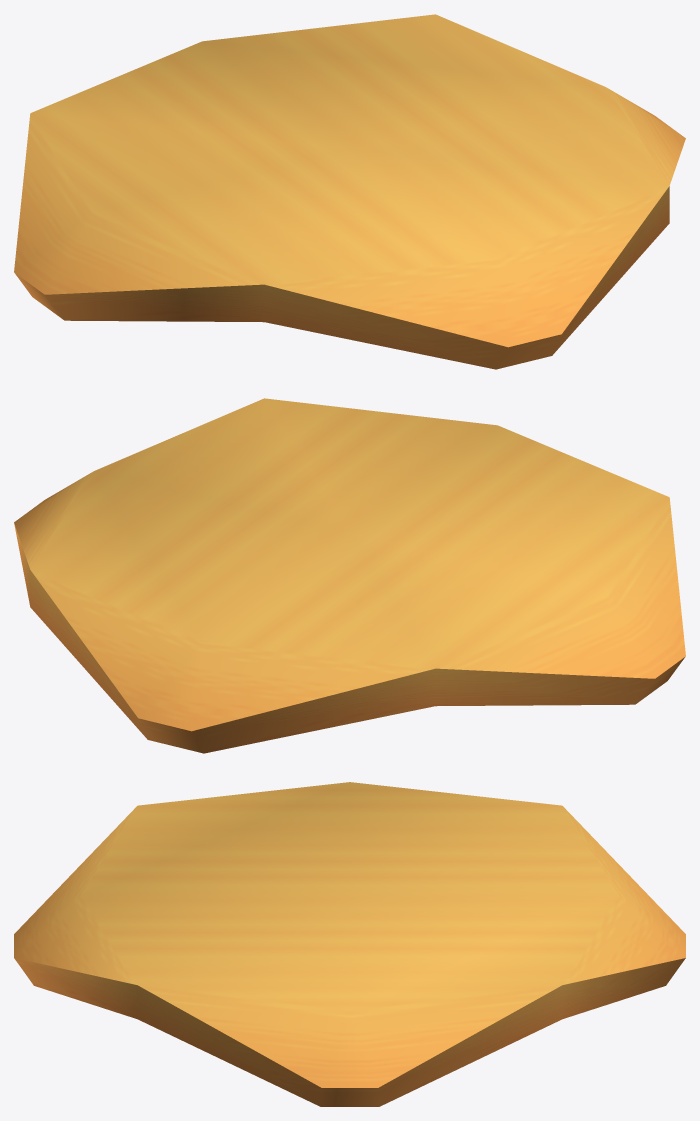
File: food_ingredient_cheese_slice.gltf
The picture shows the model from 3 angles, top to bottom: view 1: azimuth 30°, elevation 25°; view 2: azimuth 150°, elevation 25°; view 3: azimuth 270°, elevation 25°; orthographic projection. The views are drawn at different scales.
Parts seen in each view (by area): view 1: food_ingredient_cheese_slice; view 2: food_ingredient_cheese_slice; view 3: food_ingredient_cheese_slice.
Boxes of the visible parts, box(x1,y1,x2,y2) form: food_ingredient_cheese_slice: box(14, 14, 685, 369); food_ingredient_cheese_slice: box(14, 398, 685, 753); food_ingredient_cheese_slice: box(14, 782, 685, 1106).
Bounding box in the file's own units: 0.8243 × 0.1055 × 0.8243.
Materials: 1 (1 with a texture image).
